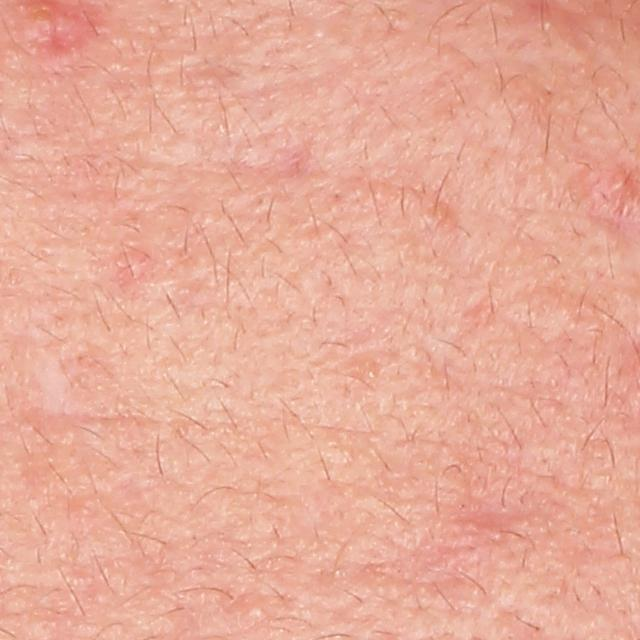comedo: (230, 588, 280, 632)
papule: (604, 167, 638, 192)
